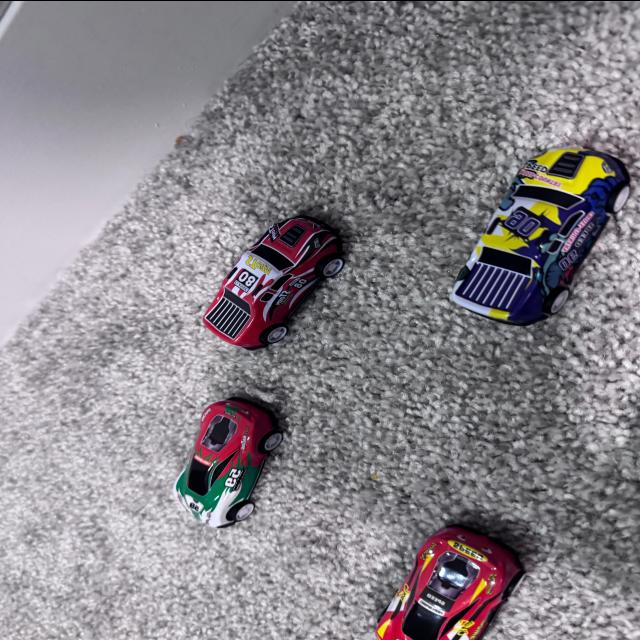car: (160, 160, 363, 373), (481, 132, 640, 330), (350, 518, 523, 640), (152, 376, 286, 516)
